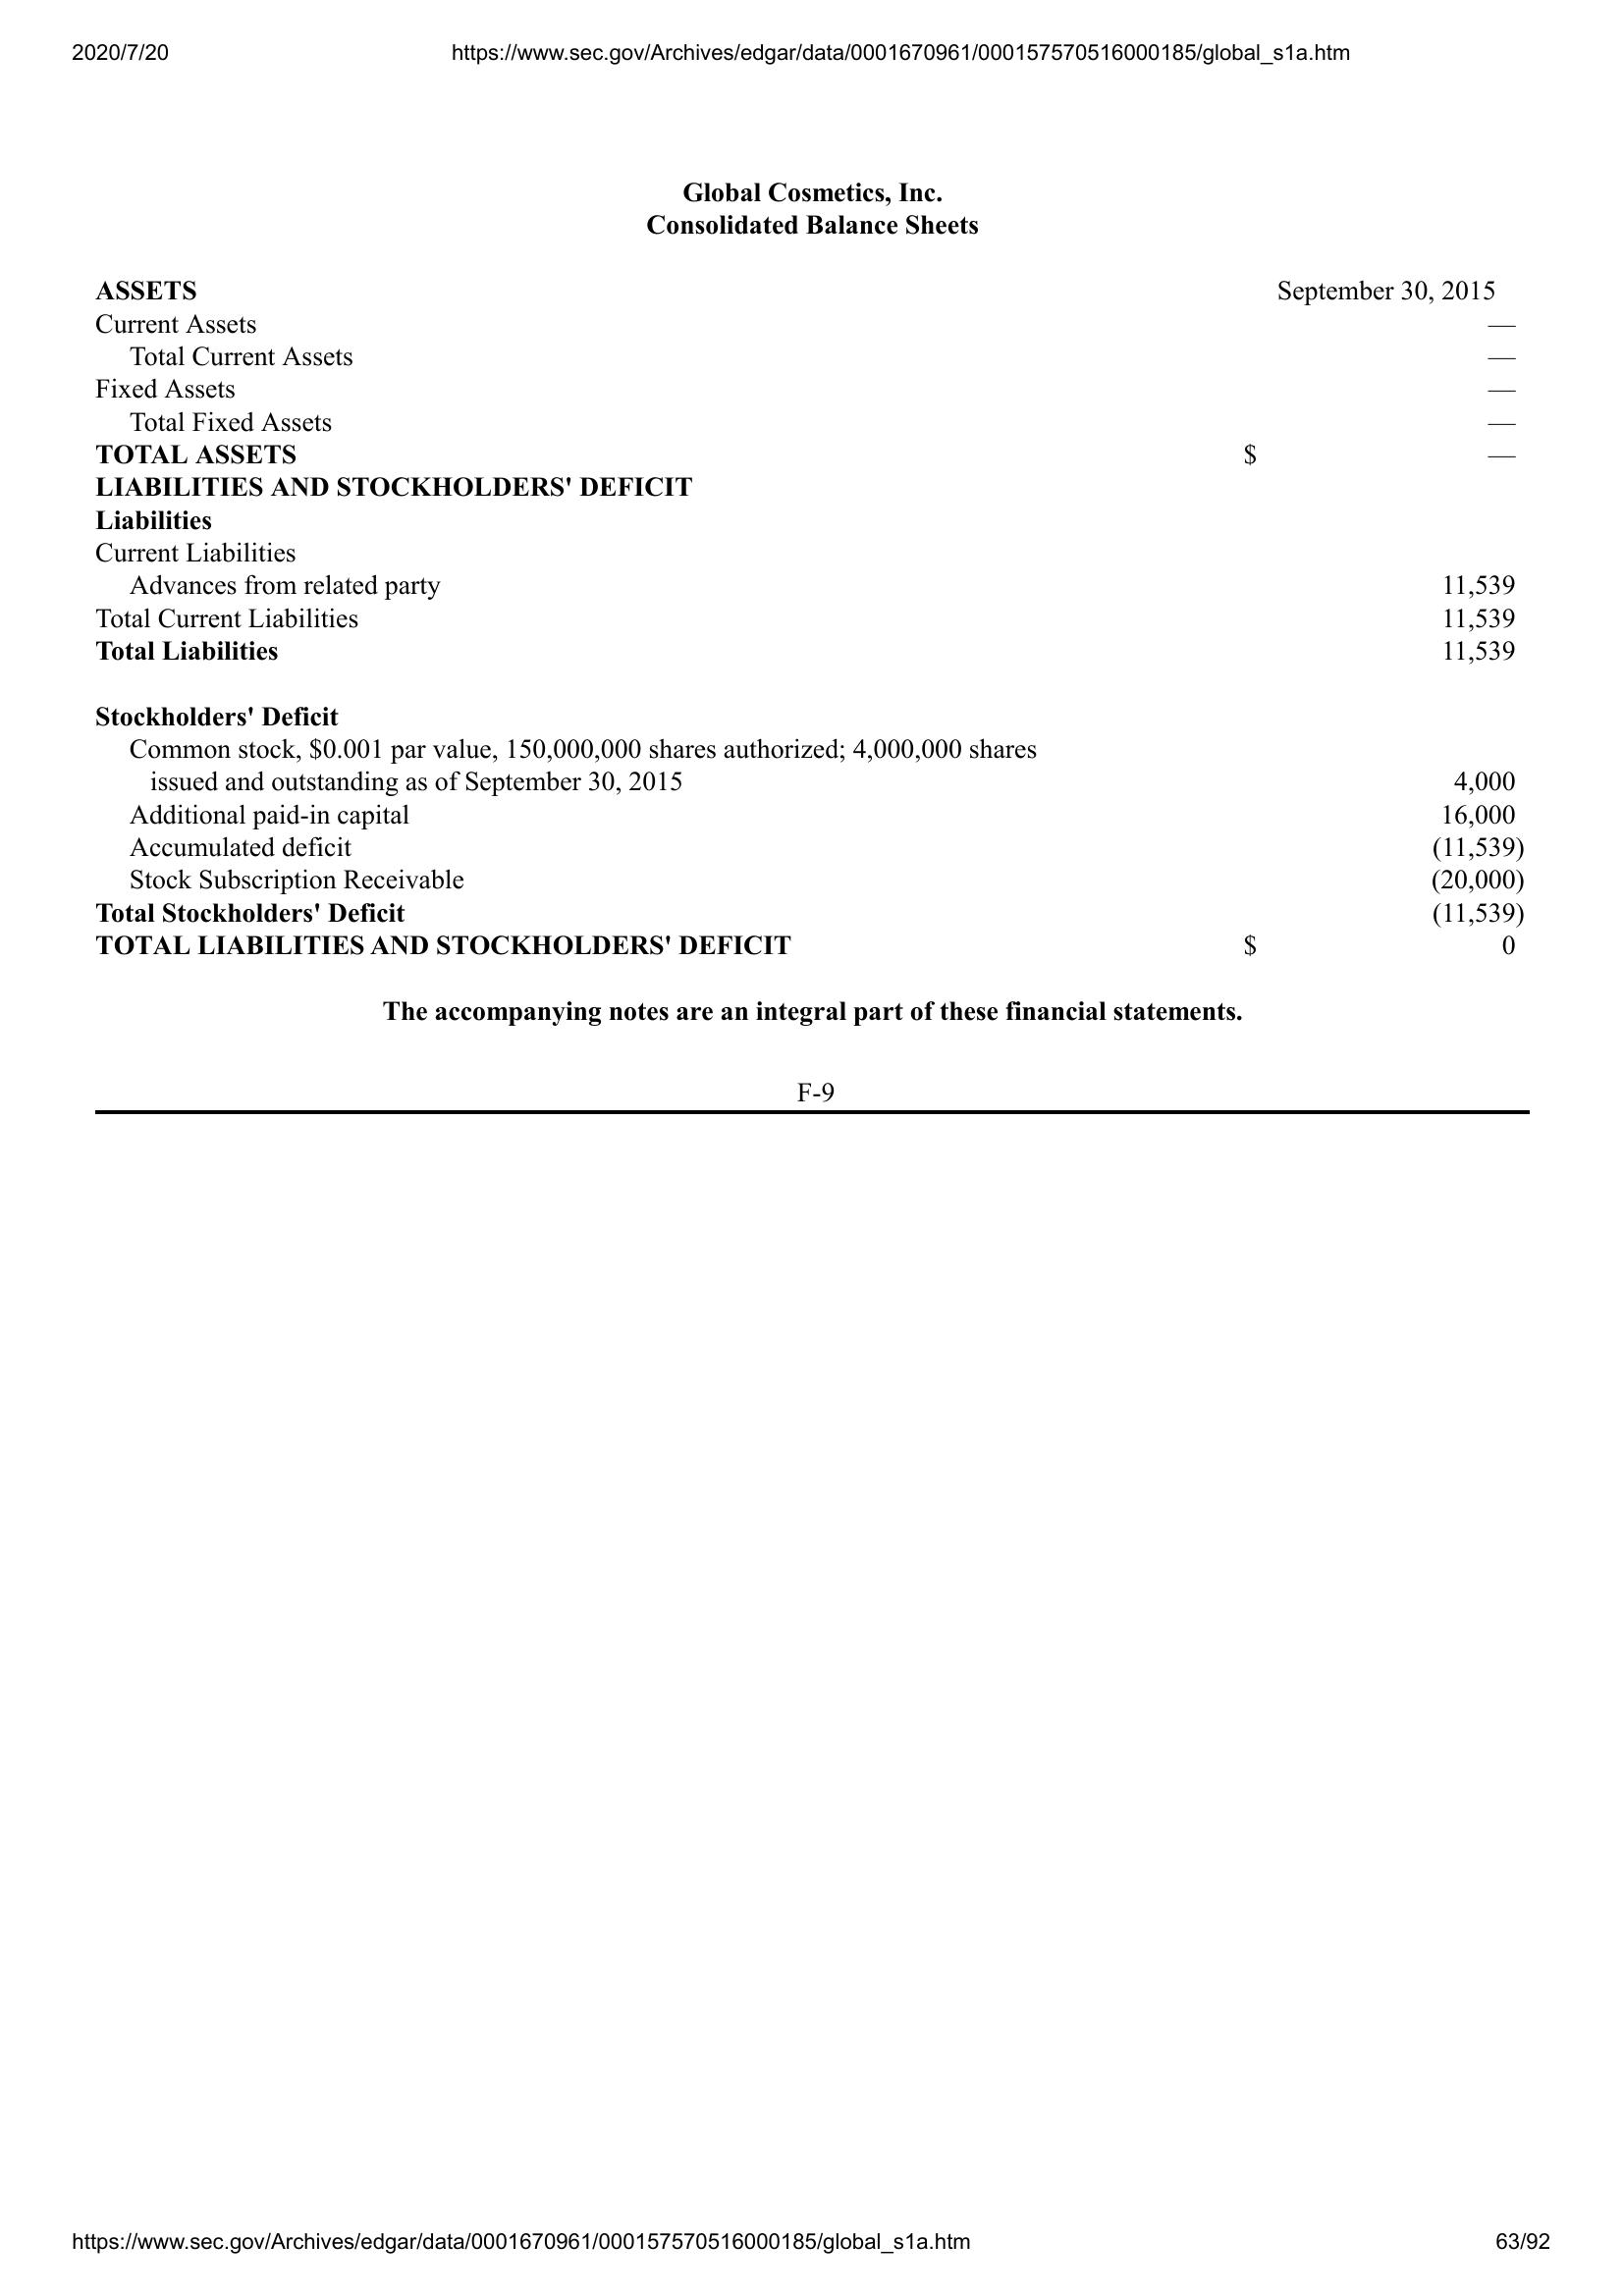table: (86, 262, 1542, 965)
